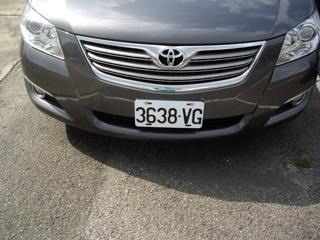plate: (132, 97, 207, 132)
